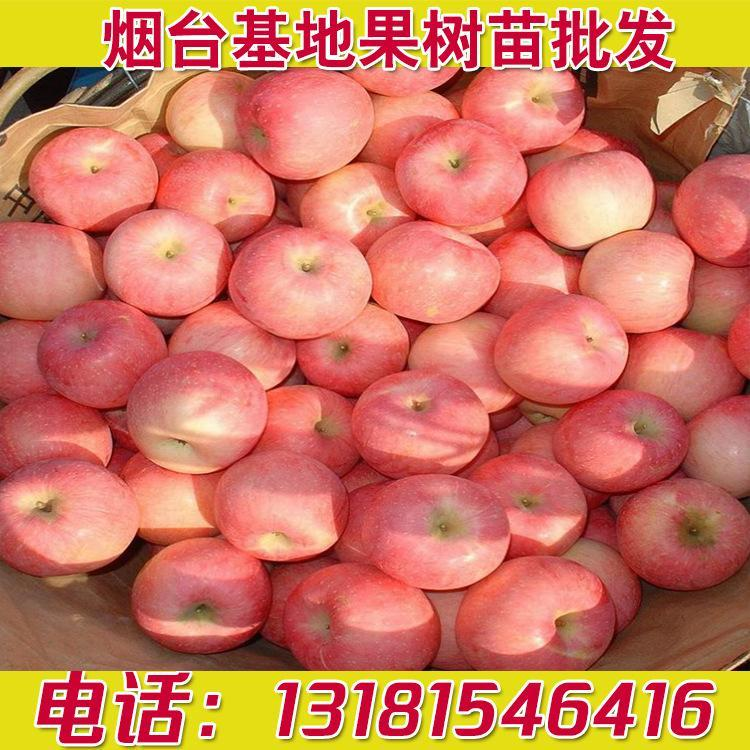apple: (457, 557, 616, 670), (359, 474, 507, 590), (130, 350, 265, 474), (131, 538, 271, 657), (284, 565, 442, 670), (225, 226, 370, 340), (612, 477, 749, 593), (7, 458, 142, 575), (491, 292, 630, 405), (215, 450, 351, 562), (23, 124, 158, 236), (347, 372, 489, 476), (241, 69, 374, 178), (364, 219, 500, 324), (38, 300, 169, 408), (555, 388, 688, 493), (395, 117, 526, 223), (100, 209, 230, 314), (519, 151, 658, 246), (473, 452, 590, 561), (577, 230, 699, 333), (166, 301, 296, 393), (459, 64, 586, 155), (411, 311, 524, 411), (619, 326, 742, 417), (295, 300, 410, 397), (159, 148, 274, 239), (3, 220, 104, 322), (296, 164, 415, 246), (253, 387, 356, 480), (669, 154, 749, 268), (480, 228, 584, 315), (168, 70, 254, 154), (682, 393, 750, 494)
